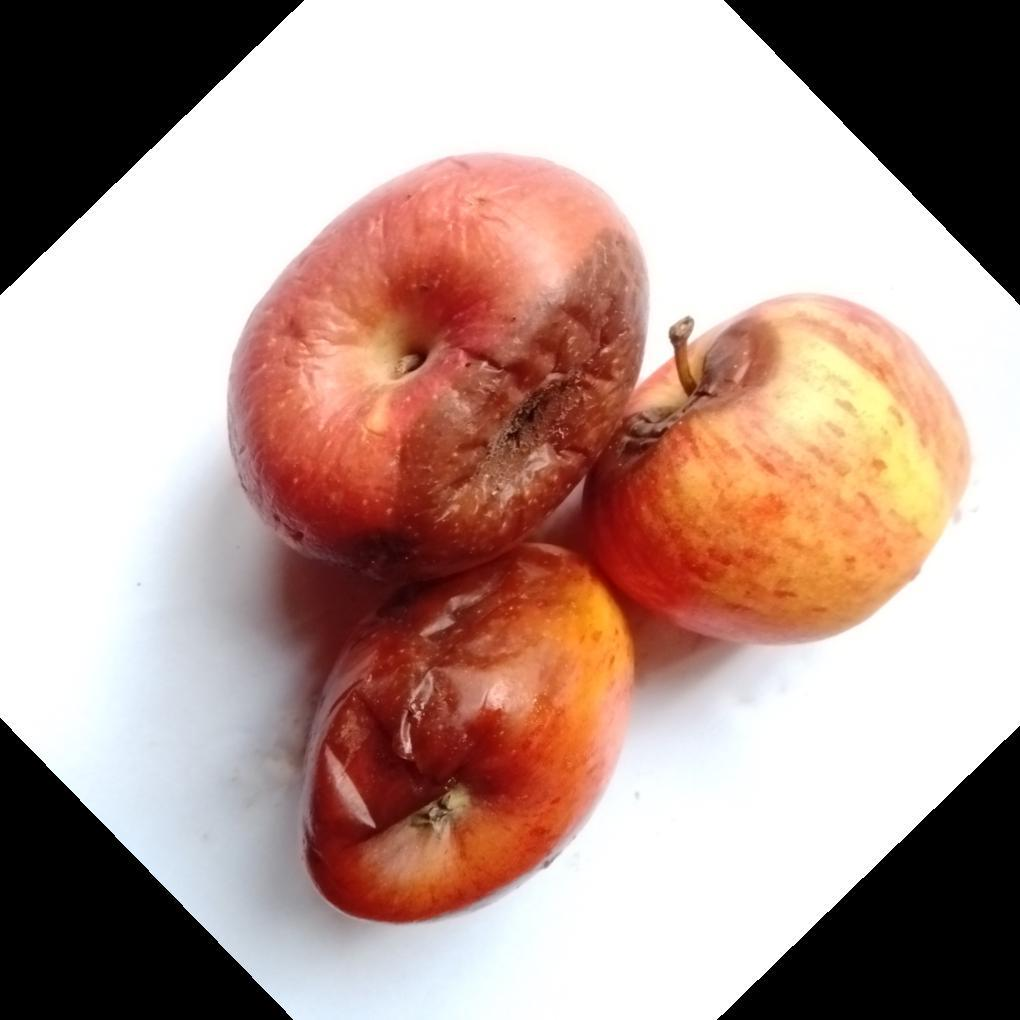FreshOrange: (226, 154, 971, 928)
